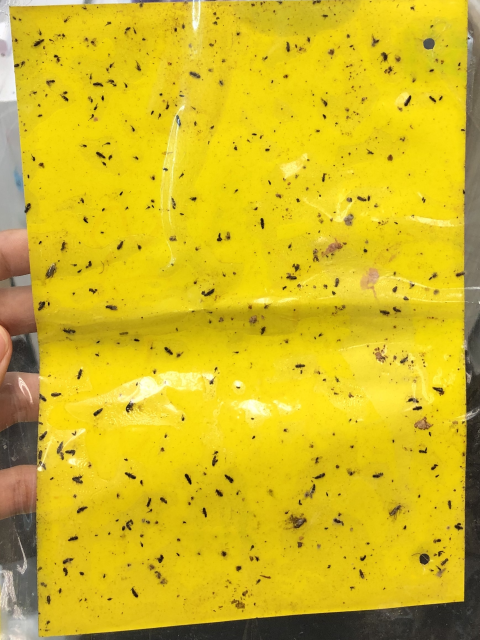DBM: (43, 261, 58, 281), (387, 503, 404, 520)
